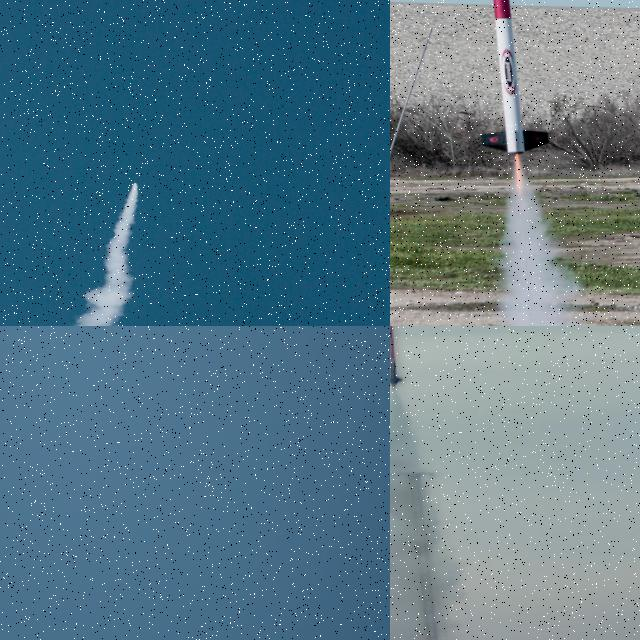Rocket: (485, 0, 552, 159), (390, 326, 402, 387), (133, 180, 138, 183)
